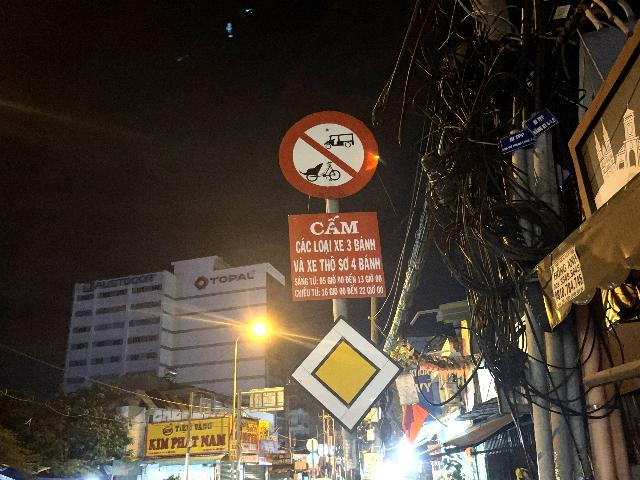bat-dau-duong-uu-tien: (287, 314, 404, 435)
cam-xe-3-banh-xe-tho-so-4-banh: (278, 110, 379, 200)
